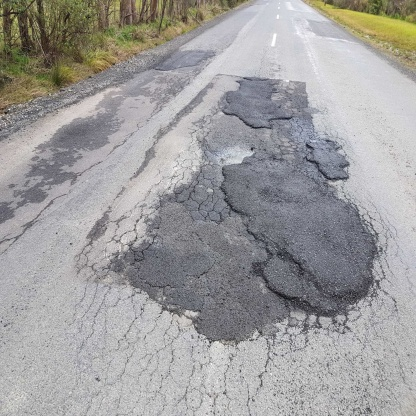pothole: (210, 136, 383, 329)
